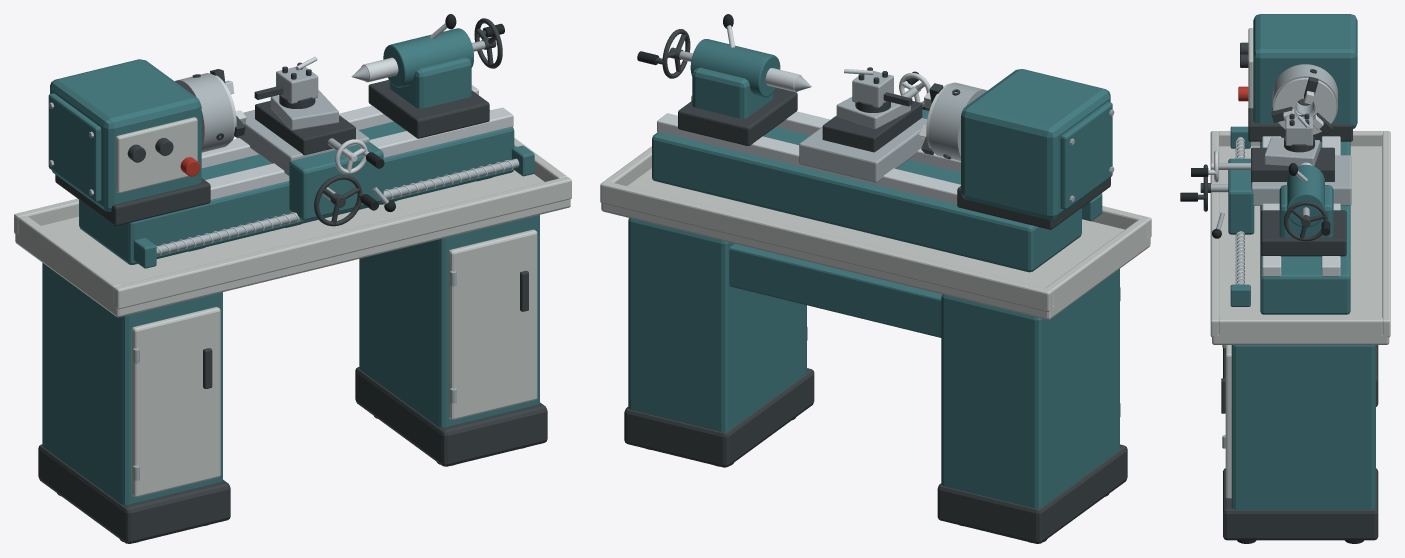
File: city-metalworking-lathe.glb
The picture shows the model from 3 angles, left to right: view 1: azimuth 30°, elevation 25°; view 2: azimuth 150°, elevation 25°; view 3: azimuth 270°, elevation 25°; orthographic projection. The views are drawn at different scales.
Visible parts, largest first — view 1: Assembly | Deep petrol workshop enamel, Assembly | Pale gray machine enamel, Assembly | Charcoal cast machine metal, Assembly | Satin machined steel, Assembly | Polished guide steel, Assembly | Black rubber grips and tires; view 2: Assembly | Deep petrol workshop enamel, Assembly | Pale gray machine enamel, Assembly | Charcoal cast machine metal, Assembly | Satin machined steel, Assembly | Polished guide steel; view 3: Assembly | Deep petrol workshop enamel, Assembly | Pale gray machine enamel, Assembly | Charcoal cast machine metal, Assembly | Satin machined steel, Assembly | Polished guide steel, Assembly | Black rubber grips and tires.
Part boxes in pixels (bbox=[...]): Assembly | Deep petrol workshop enamel: bbox=[42, 28, 539, 504]; Assembly | Pale gray machine enamel: bbox=[14, 117, 571, 497]; Assembly | Charcoal cast machine metal: bbox=[38, 18, 547, 543]; Assembly | Satin machined steel: bbox=[49, 40, 519, 480]; Assembly | Polished guide steel: bbox=[156, 23, 513, 255]; Assembly | Black rubber grips and tires: bbox=[57, 14, 524, 542]; Assembly | Deep petrol workshop enamel: bbox=[628, 39, 1119, 508]; Assembly | Pale gray machine enamel: bbox=[600, 146, 1151, 319]; Assembly | Charcoal cast machine metal: bbox=[624, 29, 1127, 543]; Assembly | Satin machined steel: bbox=[679, 51, 1120, 416]; Assembly | Polished guide steel: bbox=[657, 25, 960, 204]; Assembly | Deep petrol workshop enamel: bbox=[1228, 14, 1375, 509]; Assembly | Pale gray machine enamel: bbox=[1210, 28, 1390, 498]; Assembly | Charcoal cast machine metal: bbox=[1198, 42, 1378, 540]; Assembly | Satin machined steel: bbox=[1211, 64, 1351, 448]; Assembly | Polished guide steel: bbox=[1208, 78, 1340, 284]; Assembly | Black rubber grips and tires: bbox=[1180, 163, 1363, 543].
Bounding box in the file's own units: 1.42 × 1.25 × 0.6625.
